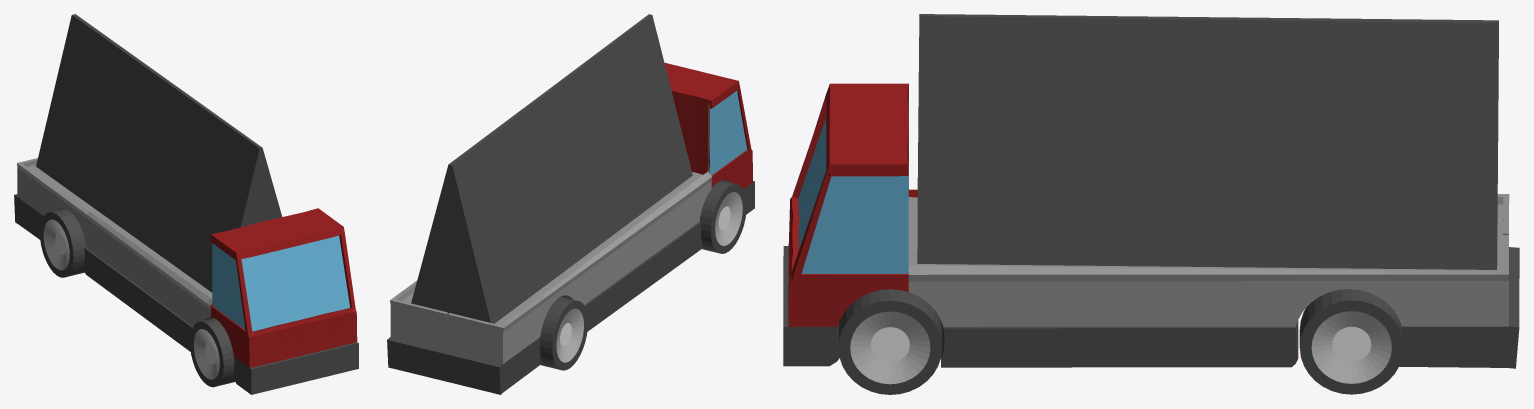
The model's file is ad_truck.fbx.
3 views of the same model, side by side, from view 1: azimuth 30°, elevation 25°; view 2: azimuth 150°, elevation 25°; view 3: azimuth 270°, elevation 25° (orthographic). The views are drawn at different scales.
Parts seen in each view (by area): view 1: Cube.017, Cylinder.066, Cylinder.069; view 2: Cube.017, Cylinder.066, Cylinder.069; view 3: Cube.017, Cylinder.067, Cylinder.068.
Boxes of the visible parts, box(x1,y1,x2,y2) form: Cube.017: box(14, 14, 358, 394); Cylinder.066: box(39, 208, 85, 277); Cylinder.069: box(190, 318, 235, 387); Cube.017: box(387, 14, 754, 394); Cylinder.066: box(539, 296, 587, 370); Cylinder.069: box(699, 180, 746, 253); Cube.017: box(783, 14, 1519, 368); Cylinder.067: box(838, 289, 942, 394); Cylinder.068: box(1299, 289, 1403, 394).
Bounding box in the file's own units: 92.15 × 145 × 293.
Materials: 1 (1 with a texture image).
